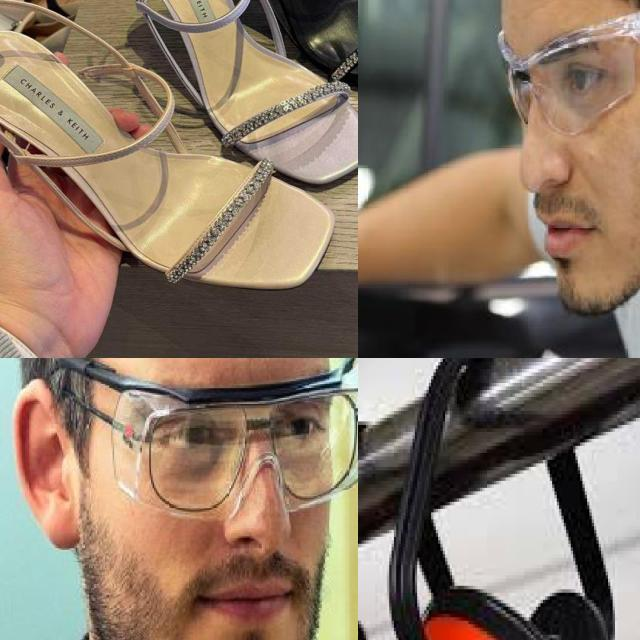Ear-protection: (403, 578, 575, 640)
No_Ear-Protection: (9, 378, 86, 556)
Sandals: (0, 0, 343, 307), (72, 0, 358, 193), (156, 0, 358, 130)
face_nomask: (134, 373, 341, 640), (485, 28, 638, 268)
glasses: (56, 358, 358, 523), (140, 382, 358, 508), (491, 0, 640, 136)
